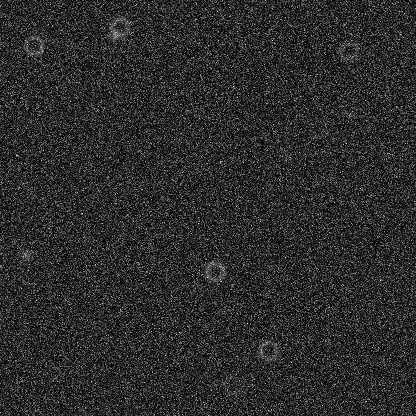Ring: (107, 14, 131, 38), (306, 116, 330, 140), (202, 259, 226, 283), (220, 372, 244, 396), (256, 338, 280, 362), (22, 33, 46, 57), (336, 39, 360, 63)
Spot: (106, 27, 122, 43), (276, 147, 292, 163), (344, 104, 360, 120), (18, 246, 34, 262)
